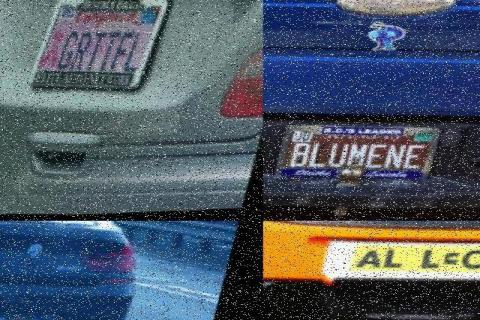LicensePlate: (37, 0, 168, 96), (280, 125, 448, 181), (327, 240, 478, 281), (0, 310, 53, 320)
